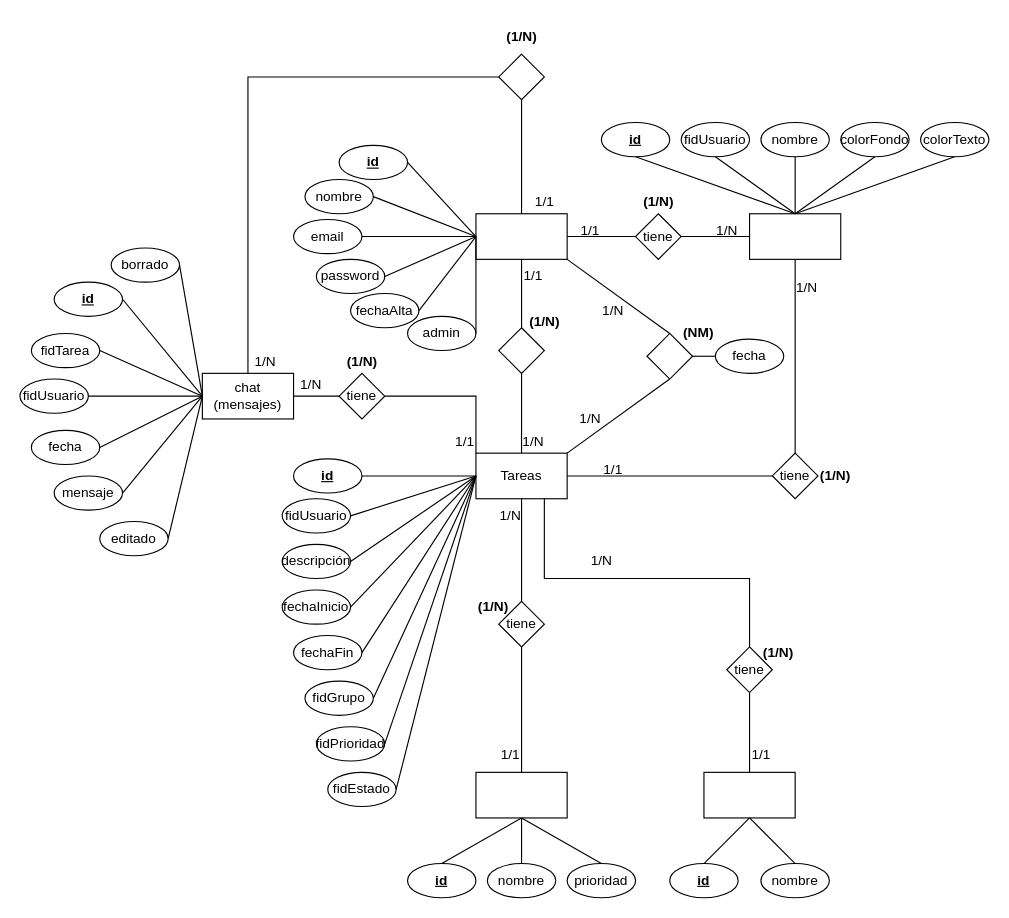
The diagram is 1009 pixels wide and 918 high, and some of its shapes have lost their labels. The shapes that lost their labels are listed below. From the top down, each one's box as (x1, y1, x2, y2) in pixels, then its label:
(498, 53, 544, 100): envia
(475, 213, 567, 259): Usuarios
(748, 213, 841, 259): Grupos
(498, 327, 544, 373): es propietario
(646, 332, 693, 379): participa
(475, 771, 567, 818): Prioridades
(703, 771, 795, 818): Estados Tareas
